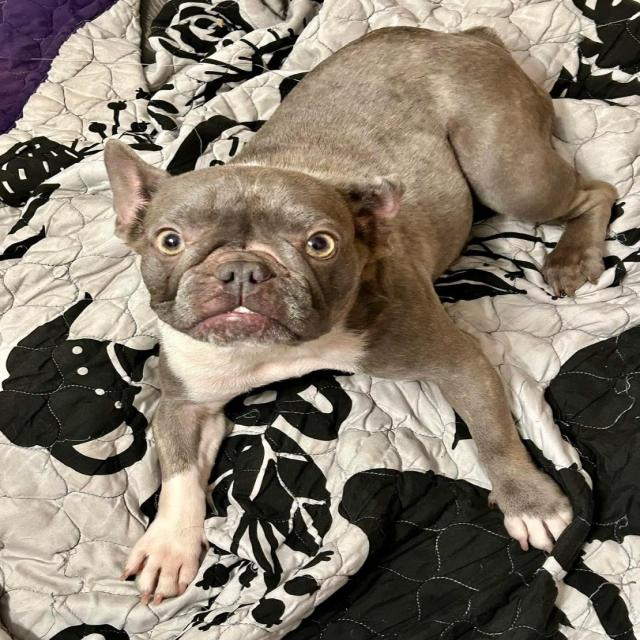french_bulldog_dog: (97, 135, 413, 363)
